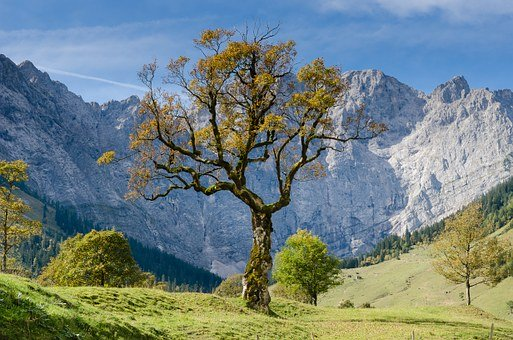mountain: (1, 51, 513, 325)
tree: (154, 31, 346, 299)
